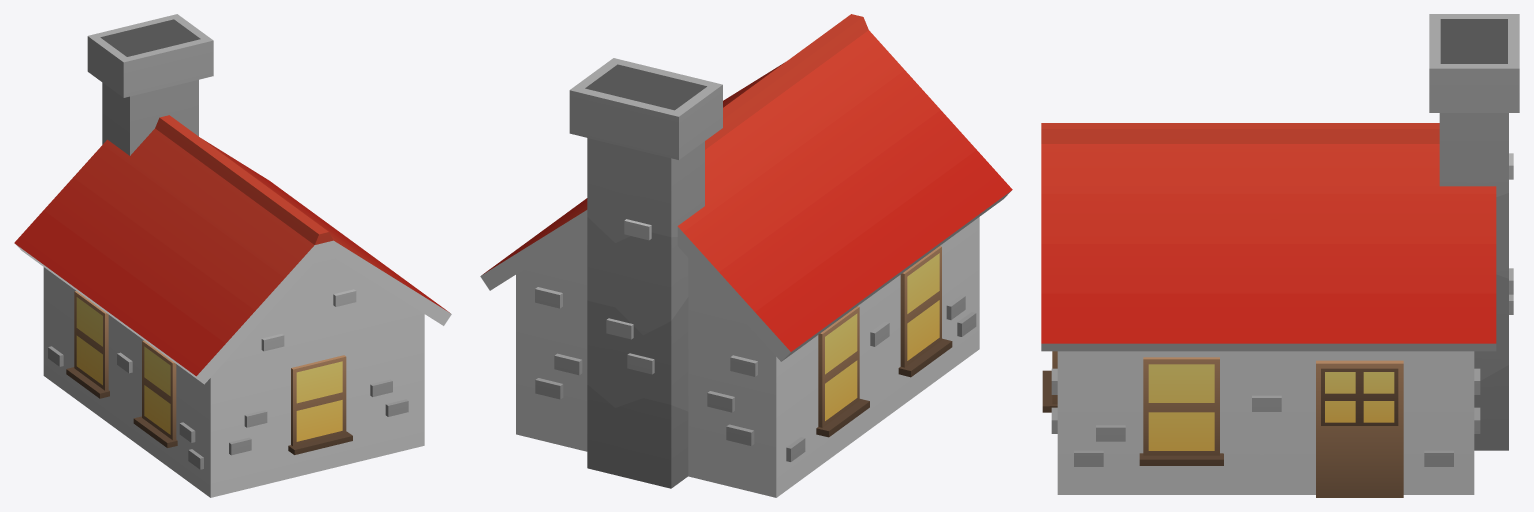
File: house.glb
3 views of the same model, side by side, from view 1: azimuth 30°, elevation 25°; view 2: azimuth 150°, elevation 25°; view 3: azimuth 270°, elevation 25° (orthographic). The views are drawn at different scales.
Parts seen in each view (by area): view 1: house; view 2: house; view 3: house.
Part boxes in pixels (x1=…): house: x1=14, y1=14, x2=451, y2=497; house: x1=480, y1=14, x2=1012, y2=497; house: x1=1041, y1=14, x2=1519, y2=497.
Bounding box in the file's own units: 4.86 × 5.66 × 6.32.
Materials: 1 (1 with a texture image).
